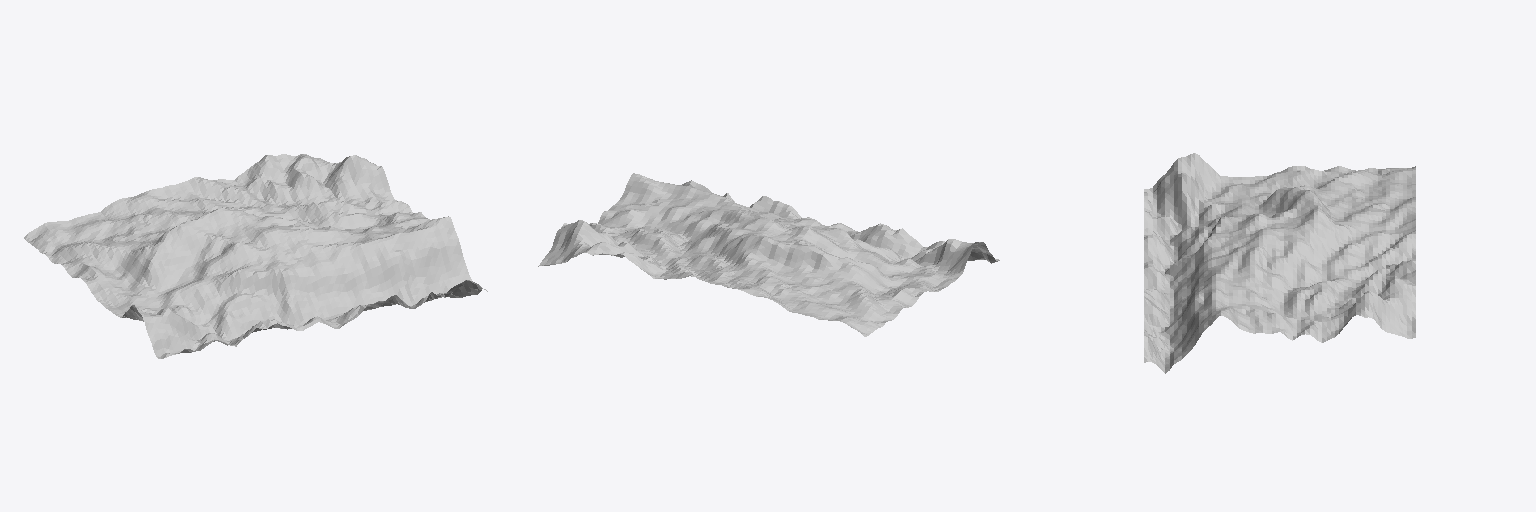
Rendered from CafeComCamaleao-CoffeeMountains.obj.
3 renders of one model, left to right at view 1: azimuth 30°, elevation 25°; view 2: azimuth 150°, elevation 25°; view 3: azimuth 270°, elevation 25°, orthographic.
Parts seen in each view (by area): view 1: EXPORT_GOOGLE_SAT_WM; view 2: EXPORT_GOOGLE_SAT_WM; view 3: EXPORT_GOOGLE_SAT_WM.
Boxes of the visible parts, x1=… form: EXPORT_GOOGLE_SAT_WM: x1=24, y1=154, x2=487, y2=358; EXPORT_GOOGLE_SAT_WM: x1=538, y1=173, x2=999, y2=336; EXPORT_GOOGLE_SAT_WM: x1=1144, y1=153, x2=1415, y2=373.
Bounding box in the file's own units: 460 × 99.37 × 329.